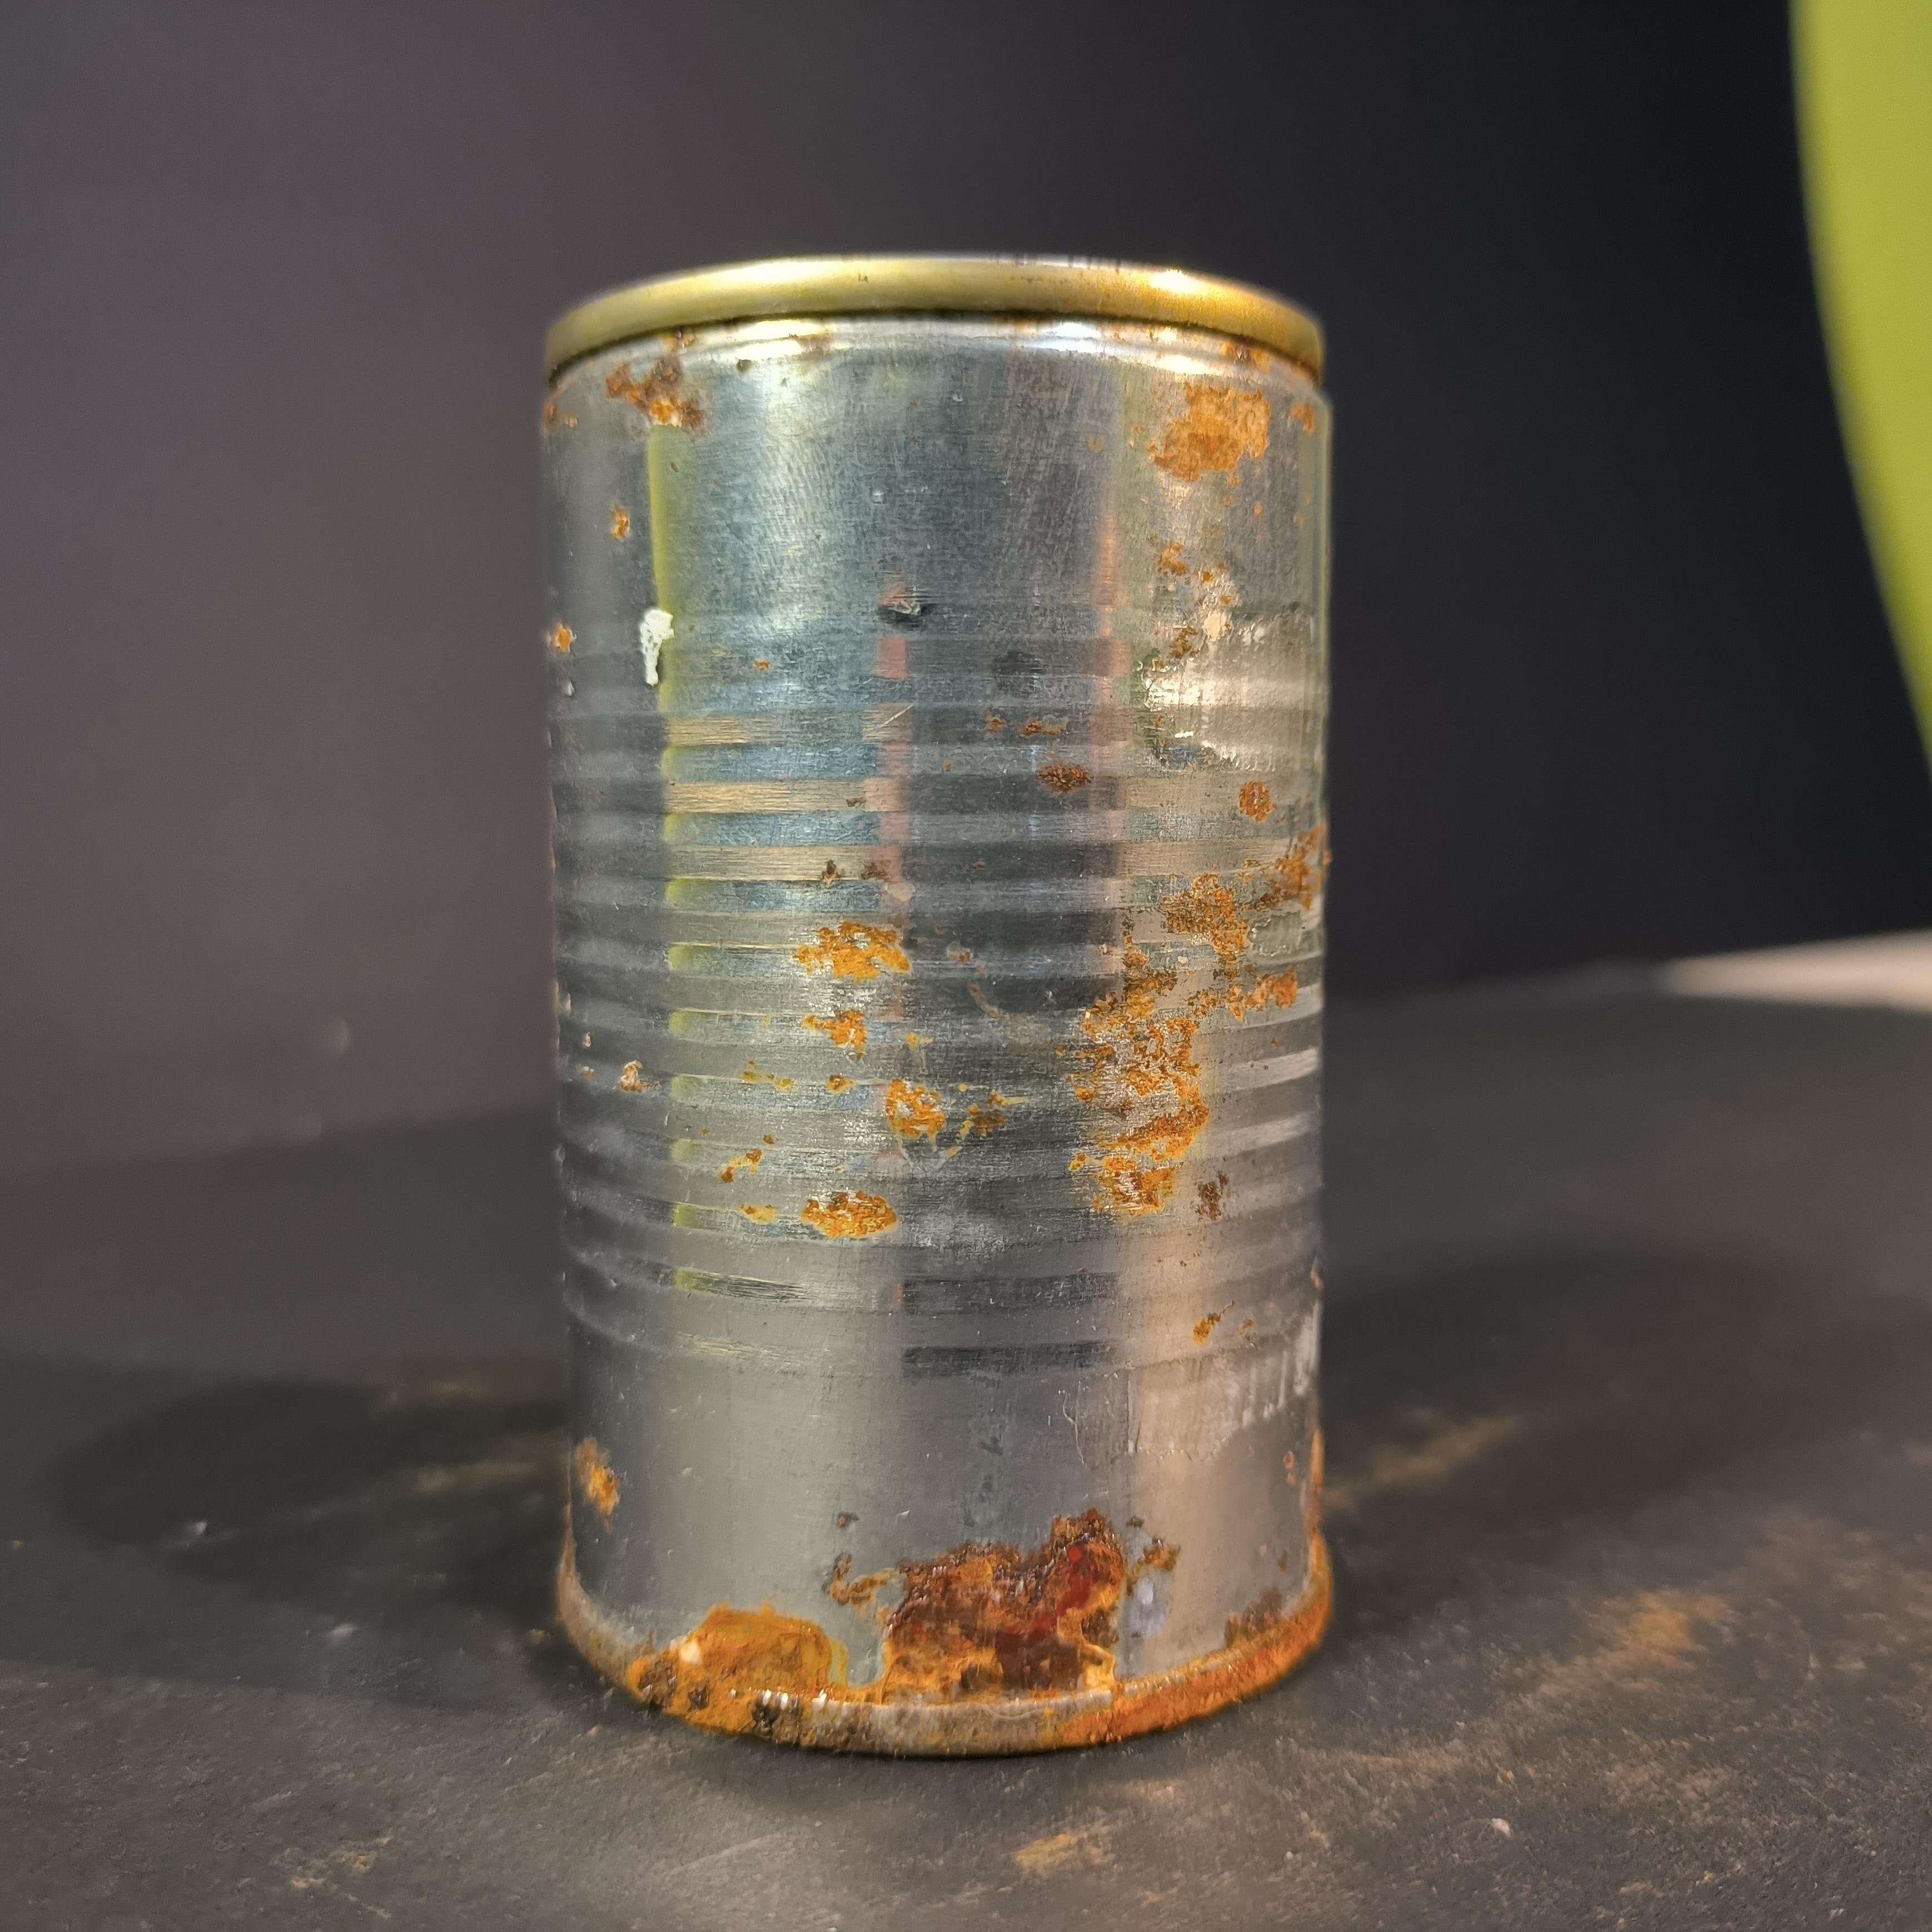Rusted: (478, 225, 1352, 1755)
